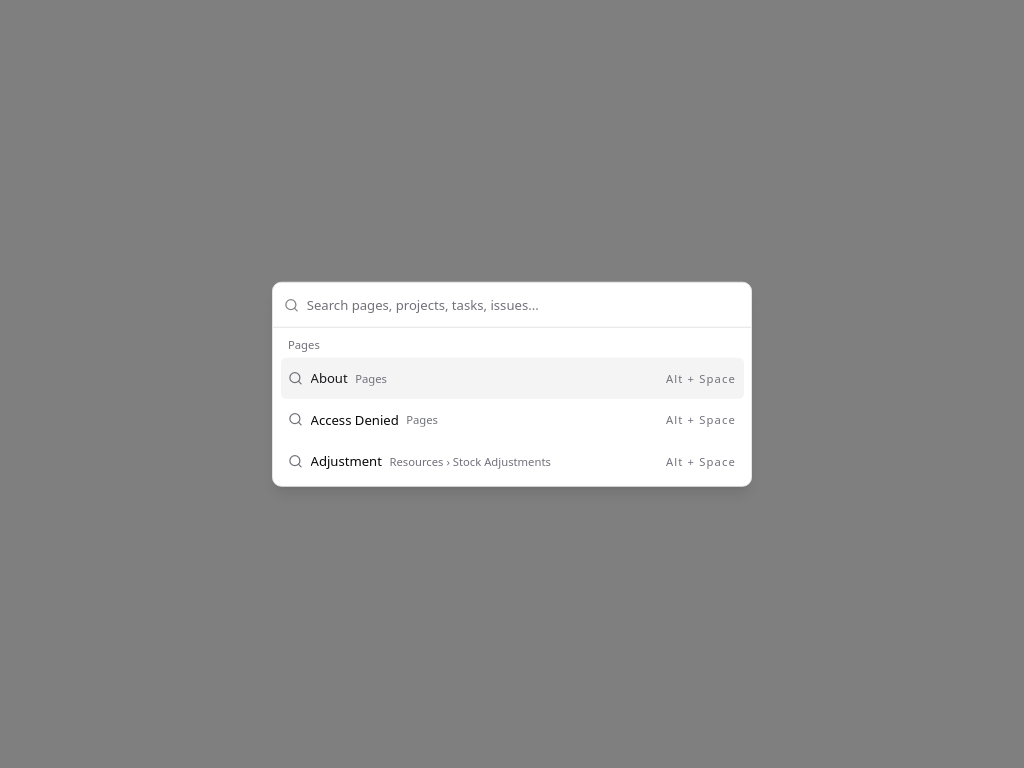
Test: CommandPalette: searching › drops a task that has no project rather than offering a dead link
This screenshot has width=1024, height=768.
Type "task" into the dropdown with placeholder "Search pages, projects, tasks, issues..." at [523, 305], box [307, 282, 740, 327]
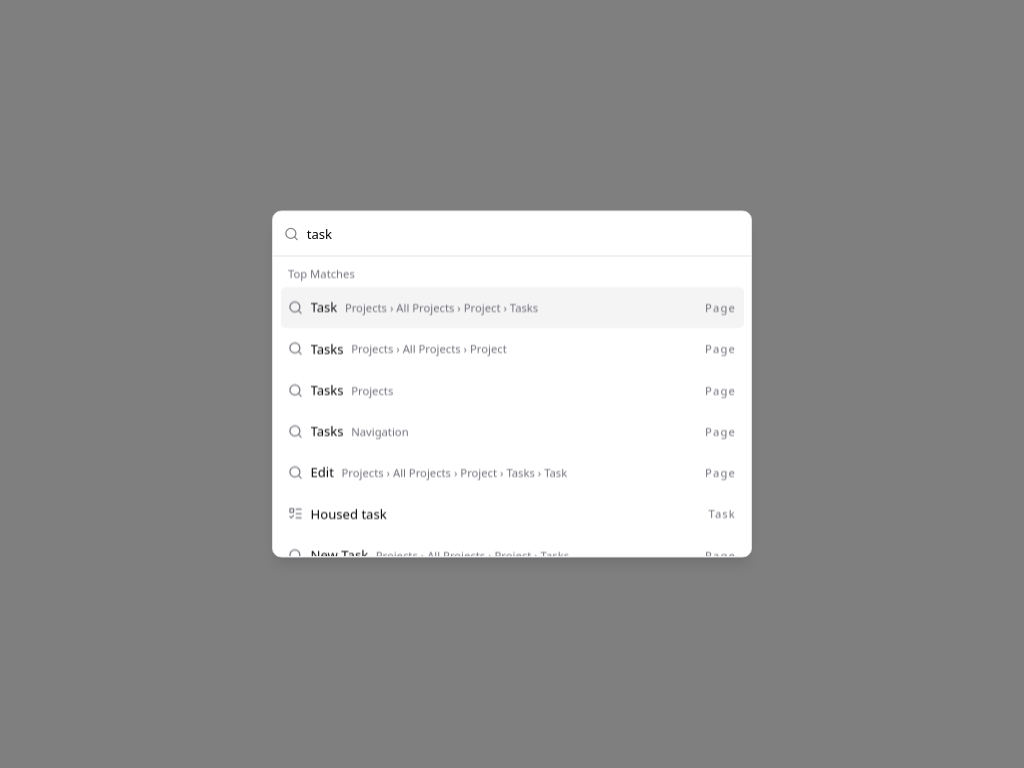
Result: the text "Housed task" is shown at [310, 504, 387, 523]
